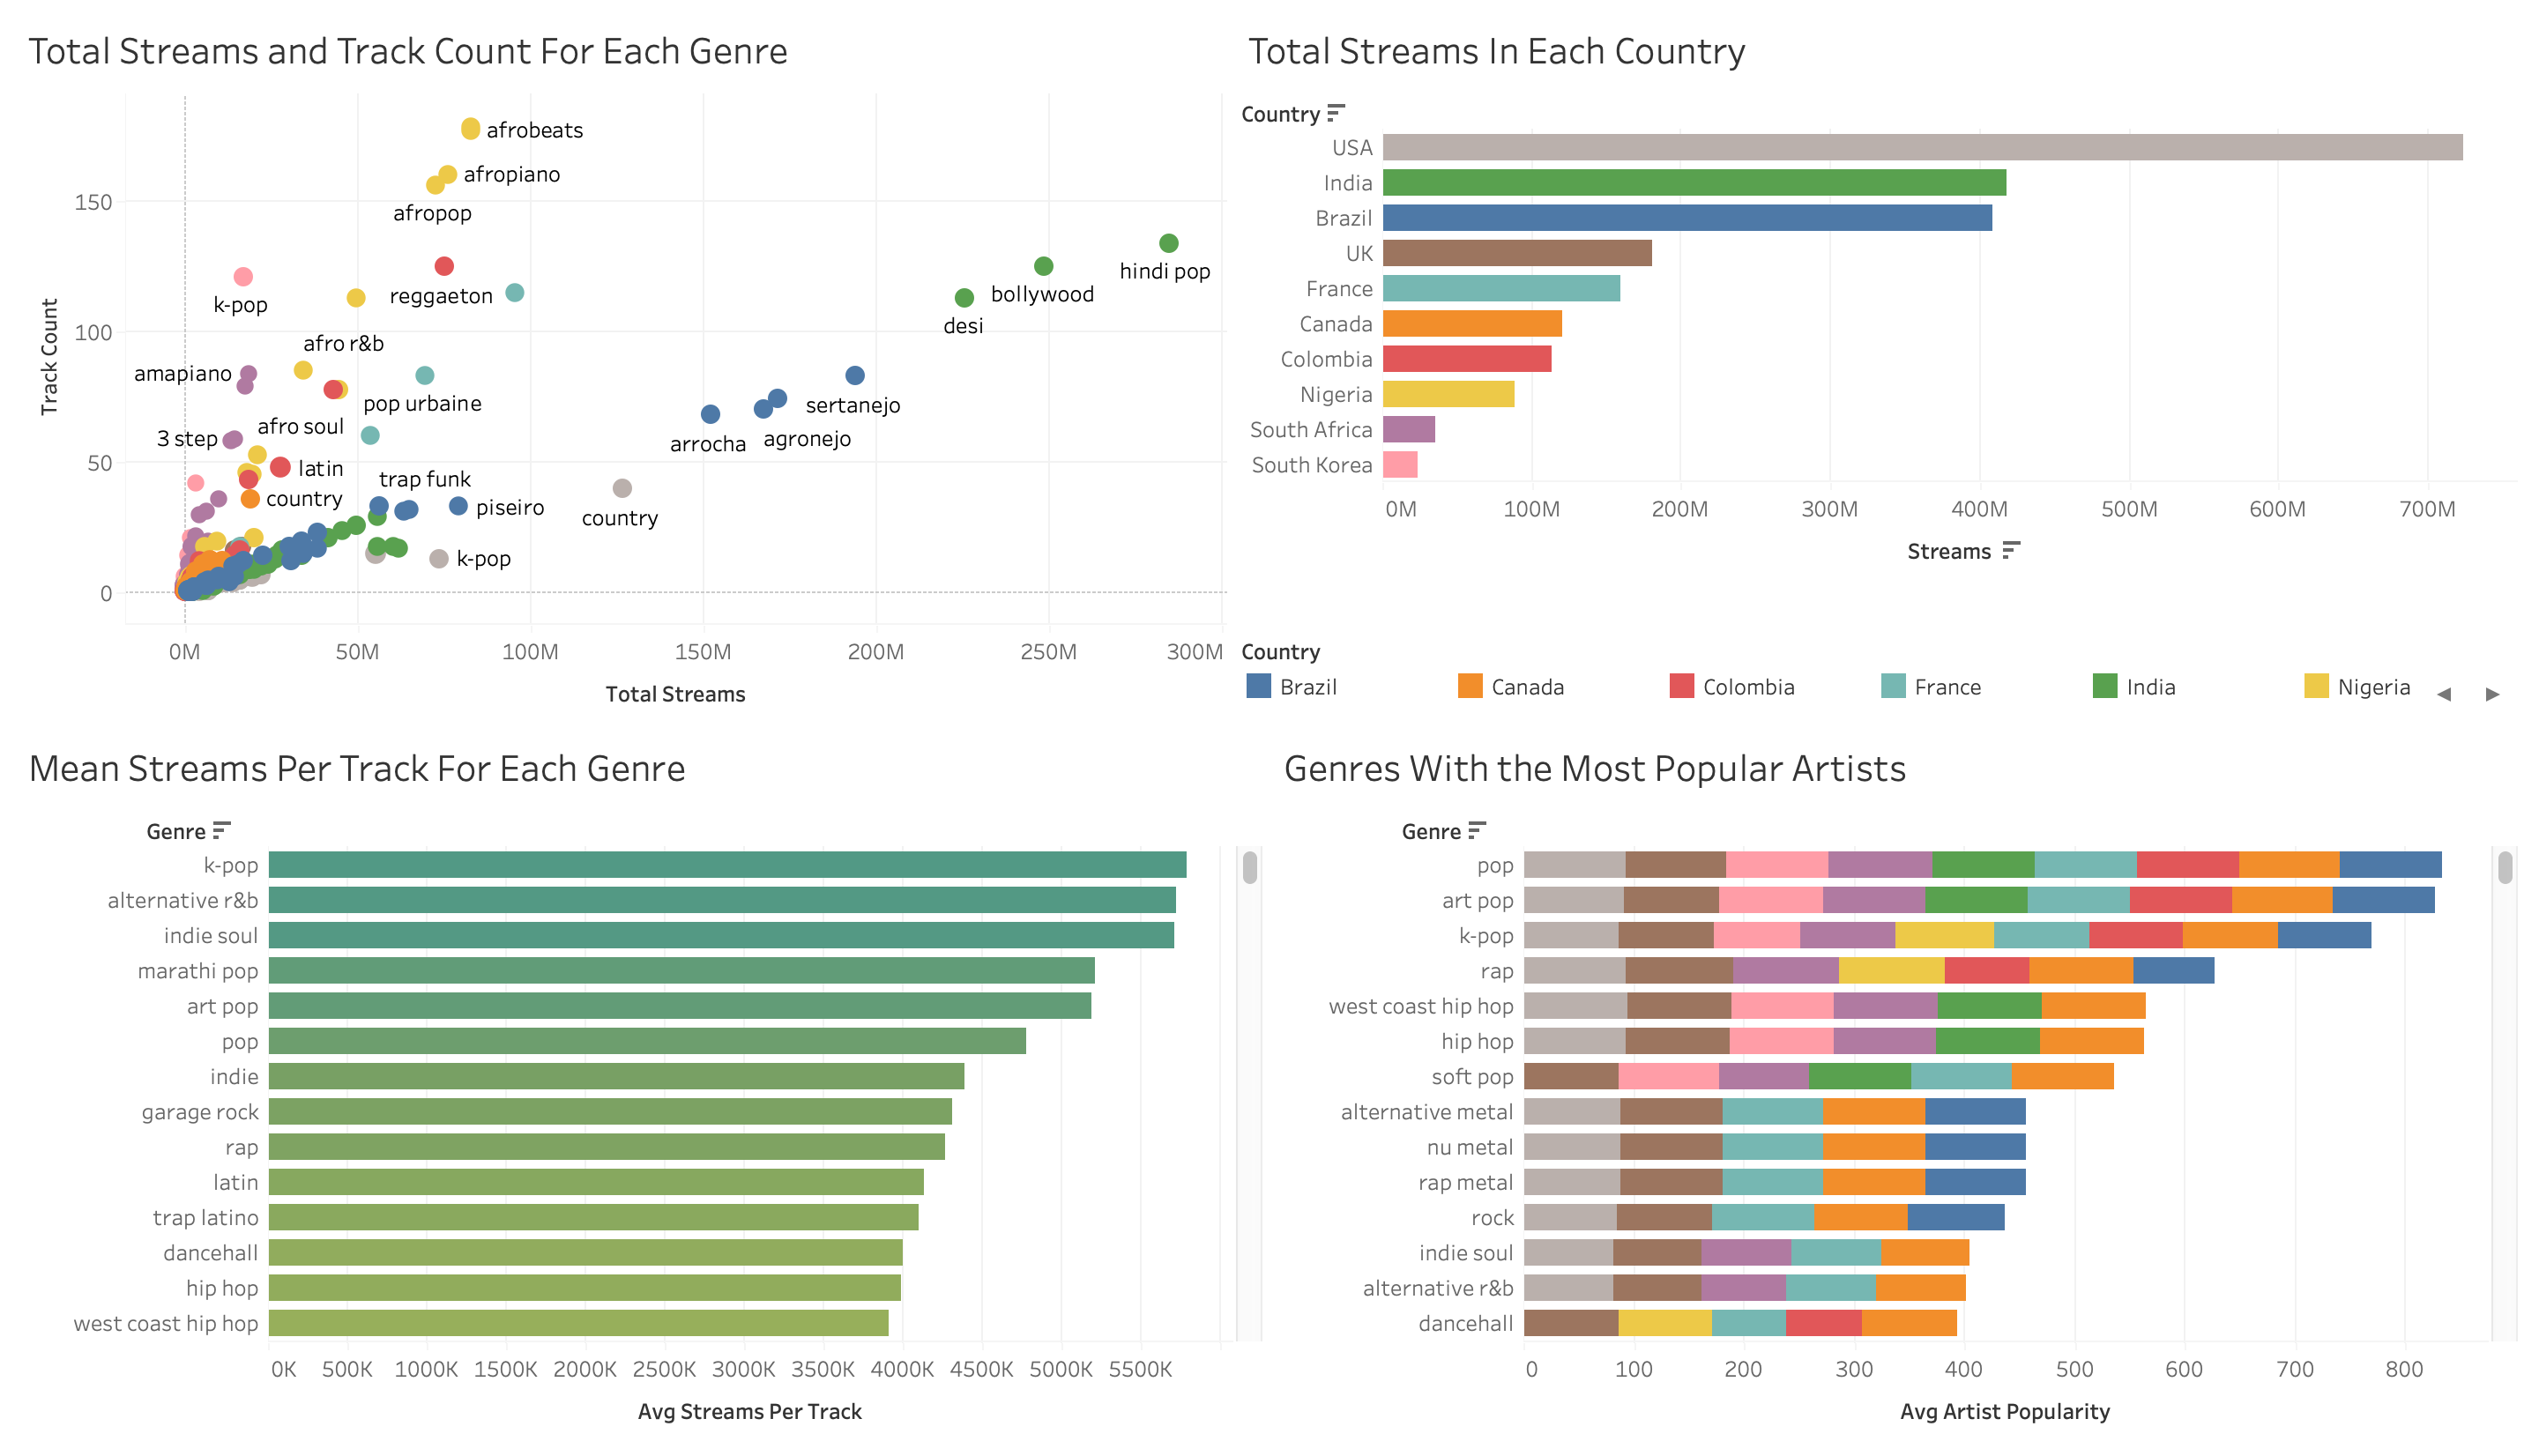

Layout of this report page (visuals, bound fields, positions):
{"tool":"tableau","page":{"name":"Genre_Dashboard","canvas":[1000,1000],"units":"permille","ordinal":2},"visuals":[{"type":"worksheet","title":"Sheet 1","mark":"Automatic","rows":["track_count"],"cols":["total_streams"],"box":[7.1,10.4,478.8,489.6]},{"type":"worksheet","title":"Sheet 9","mark":"Automatic","rows":["country"],"cols":["streams"],"box":[485.9,10.4,507,421.9]},{"type":"legend","title":"Sheet 1","param":"[federated.0gv98fc1u61pfz0zkx1l816rc57y].[none:country:nk]","box":[485.9,432.3,507,67.7]},{"type":"worksheet","title":"Sheet 7","mark":"Automatic","rows":["genre"],"cols":["avg_streams_per_track"],"box":[7.1,500,492.8,489.6]},{"type":"worksheet","title":"Sheet 8","mark":"Automatic","rows":["genre"],"cols":["avg_artist_popularity"],"box":[499.9,500,493,489.6]}]}

Visuals, with their boxes on the dashboard's canvas, which has no fixed pixel size, in thousandths of its width and height (x1, y1, x2, y2). These are canvas units, not pixel positions in the 2539x1456 screenshot, which may show the page scaled, cropped or inside an application window:
"Sheet 1" worksheet: <bbox>7, 10, 486, 500</bbox>
"Sheet 9" worksheet: <bbox>486, 10, 993, 432</bbox>
"Sheet 1" legend: <bbox>486, 432, 993, 500</bbox>
"Sheet 7" worksheet: <bbox>7, 500, 500, 990</bbox>
"Sheet 8" worksheet: <bbox>500, 500, 993, 990</bbox>
